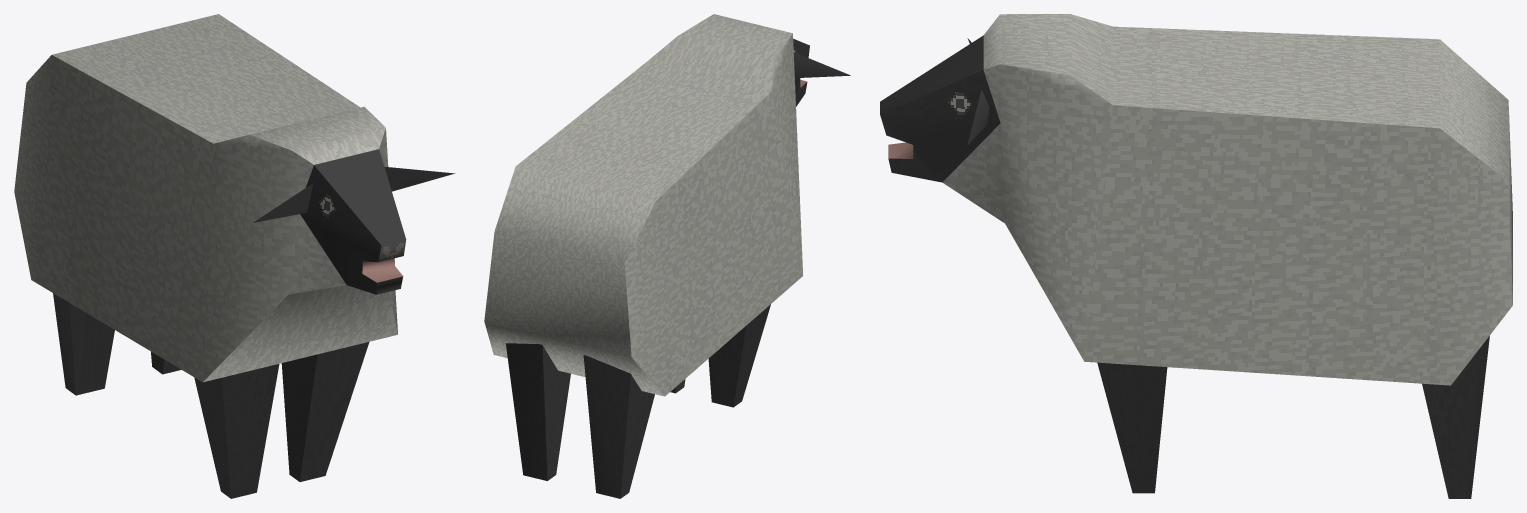
Rendered from 01ec_Black_Sheep.glb.
The picture shows the model from 3 angles, left to right: view 1: azimuth 30°, elevation 25°; view 2: azimuth 150°, elevation 25°; view 3: azimuth 270°, elevation 25°; orthographic projection. The views are drawn at different scales.
Parts seen in each view (by area): view 1: part_0; view 2: part_0; view 3: part_0.
Boxes of the visible parts, x1=… form: part_0: x1=14, y1=14, x2=455, y2=498; part_0: x1=484, y1=14, x2=850, y2=498; part_0: x1=880, y1=14, x2=1512, y2=498.
Bounding box in the file's own units: 0.4128 × 0.7601 × 1.02.
Materials: 1 (1 with a texture image).
